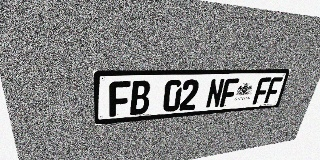0: (162, 80, 183, 112)
2: (179, 79, 200, 111)
B: (130, 80, 151, 115)
F: (109, 81, 130, 117), (219, 78, 239, 107), (252, 77, 272, 104), (264, 77, 283, 103)
N: (205, 79, 225, 109)
